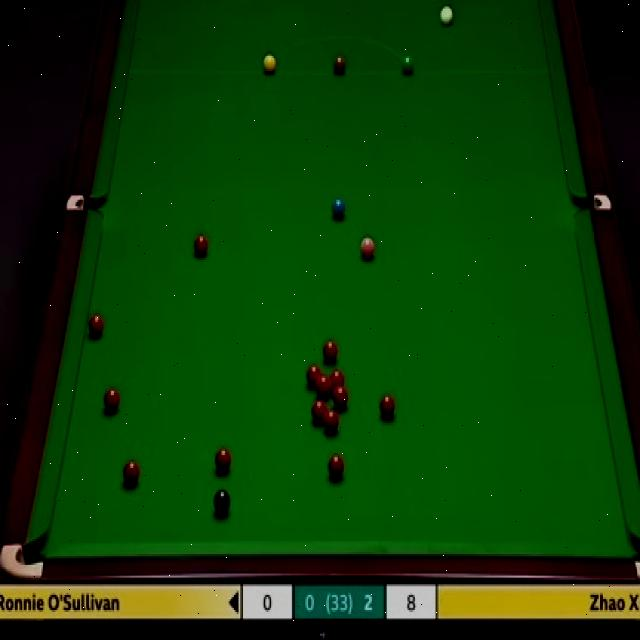black-ball: (214, 489, 232, 518)
blue-ball: (331, 195, 346, 220)
brown-ball: (333, 52, 346, 75)
green-ball: (400, 56, 414, 77)
pink-ball: (360, 236, 376, 259)
red-ball: (378, 392, 397, 422), (122, 458, 140, 488), (86, 314, 104, 342), (104, 384, 120, 413), (328, 452, 344, 480), (311, 398, 327, 425), (215, 447, 232, 472), (322, 339, 338, 365), (324, 410, 339, 436), (306, 363, 320, 388), (333, 386, 348, 409), (194, 233, 208, 256), (330, 371, 344, 392), (316, 375, 330, 395)
white-ball: (438, 2, 454, 30)
yellow-ball: (262, 54, 276, 76)
